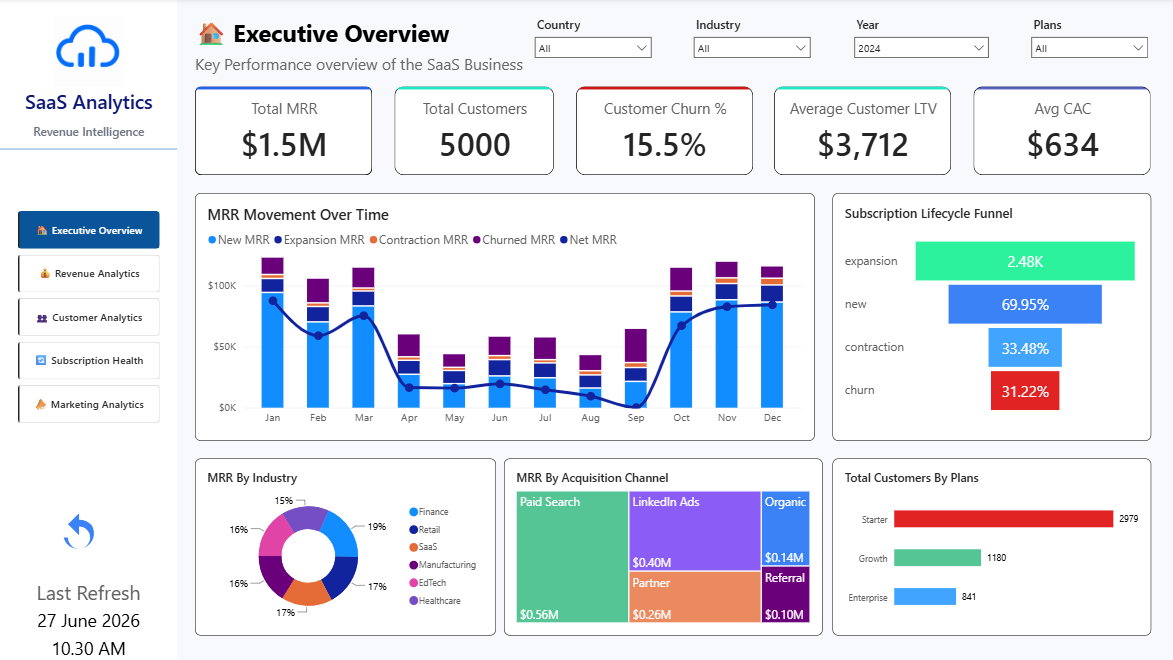

This screenshot's page, from the dashboard's own definition file:
{"tool":"powerbi","page":{"name":"🏠  Executive Overview","canvas":[1600,900],"ordinal":0},"visuals":[{"type":"cardVisual","fields":{"Data":["_Measures.Total MRR"]},"box":[264,120,240,120],"z":0},{"type":"cardVisual","fields":{"Data":["_Measures_Executive.Active Customers"]},"box":[534,120,216,120],"z":1000},{"type":"cardVisual","fields":{"Data":["_Measures_Customers.Customer Churn %"]},"box":[780,120,240,120],"z":2000},{"type":"cardVisual","fields":{"Data":["_Measures_Customers.Average Customer LTV"]},"box":[1050,120,240,120],"z":3000},{"type":"lineStackedColumnComboChart","title":"MRR Movement Over Time","fields":{"Y":["_Measures.New MRR","_Measures.Expansion MRR","_Measures.Contraction MRR","_Measures.Churned MRR"],"Y2":["_Measures.Net MRR"],"Category":["Dim_Date.Month Name"]},"box":[264,264,840,336],"z":4000},{"type":"donutChart","title":"MRR By Industry","fields":{"Category":["customers.industry"],"Y":["_Measures.Total MRR"]},"box":[264,624,408,240],"z":5000},{"type":"textbox","box":[264,24,456,120],"z":6000},{"type":"shape","box":[0,-12,240,912],"z":7000},{"type":"textbox","box":[24,120,192,96],"z":8000},{"type":"shape","box":[0,168,240,72],"z":9000},{"type":"image","box":[72,24,96,96],"z":10000},{"type":"pageNavigator","box":[24,288,192,290],"z":11000},{"type":"slicer","fields":{"Values":["customers.country"]},"box":[720,24,168,72],"z":12000},{"type":"slicer","fields":{"Values":["customers.industry"]},"box":[936,24,168,72],"z":13000},{"type":"slicer","fields":{"Values":["subscriptions.plan_type"]},"box":[1392,24,168,72],"z":14000},{"type":"cardVisual","fields":{"Data":["_Measures.CAC"]},"box":[1320,120,240,120],"z":15000},{"type":"funnel","title":"Subscription Lifecycle Funnel","fields":{"Category":["subscription_events.event_type"],"Y":["CountNonNull(subscription_events.event_id)"]},"box":[1128,264,432,336],"z":16000},{"type":"treemap","title":"MRR By Acquisition Channel","fields":{"Group":["customers.acquisition_channel"],"Values":["_Measures.Total MRR"]},"box":[684,624,432,240],"z":17000},{"type":"clusteredBarChart","title":"Churn Rate By Plans","fields":{"Category":["subscriptions.plan_type"],"Y":["_Measures_Customers.Customer Churn %"]},"box":[1128,624,432,240],"z":18000},{"type":"textbox","box":[0,636,240,264],"z":19000},{"type":"image","box":[72,696,72,72],"z":20000},{"type":"slicer","fields":{"Values":["Dim_Date.Year"]},"box":[1152,24,192,72],"z":21000}]}

Visuals, with their boxes on the page's 1600x900 design canvas (x1, y1, x2, y2). These are canvas units, not pixel positions in the 1173x660 screenshot, which may show the page scaled, cropped or inside an application window:
cardVisual - _Measures.Total MRR: [x1=264, y1=120, x2=504, y2=240]
cardVisual - _Measures_Executive.Active Customers: [x1=534, y1=120, x2=750, y2=240]
cardVisual - _Measures_Customers.Customer Churn %: [x1=780, y1=120, x2=1020, y2=240]
cardVisual - _Measures_Customers.Average Customer LTV: [x1=1050, y1=120, x2=1290, y2=240]
"MRR Movement Over Time" lineStackedColumnComboChart: [x1=264, y1=264, x2=1104, y2=600]
"MRR By Industry" donutChart: [x1=264, y1=624, x2=672, y2=864]
textbox: [x1=264, y1=24, x2=720, y2=144]
shape: [x1=0, y1=-12, x2=240, y2=900]
textbox: [x1=24, y1=120, x2=216, y2=216]
shape: [x1=0, y1=168, x2=240, y2=240]
image: [x1=72, y1=24, x2=168, y2=120]
pageNavigator: [x1=24, y1=288, x2=216, y2=578]
slicer - customers.country: [x1=720, y1=24, x2=888, y2=96]
slicer - customers.industry: [x1=936, y1=24, x2=1104, y2=96]
slicer - subscriptions.plan_type: [x1=1392, y1=24, x2=1560, y2=96]
cardVisual - _Measures.CAC: [x1=1320, y1=120, x2=1560, y2=240]
"Subscription Lifecycle Funnel" funnel: [x1=1128, y1=264, x2=1560, y2=600]
"MRR By Acquisition Channel" treemap: [x1=684, y1=624, x2=1116, y2=864]
"Churn Rate By Plans" clusteredBarChart: [x1=1128, y1=624, x2=1560, y2=864]
textbox: [x1=0, y1=636, x2=240, y2=900]
image: [x1=72, y1=696, x2=144, y2=768]
slicer - Dim_Date.Year: [x1=1152, y1=24, x2=1344, y2=96]
